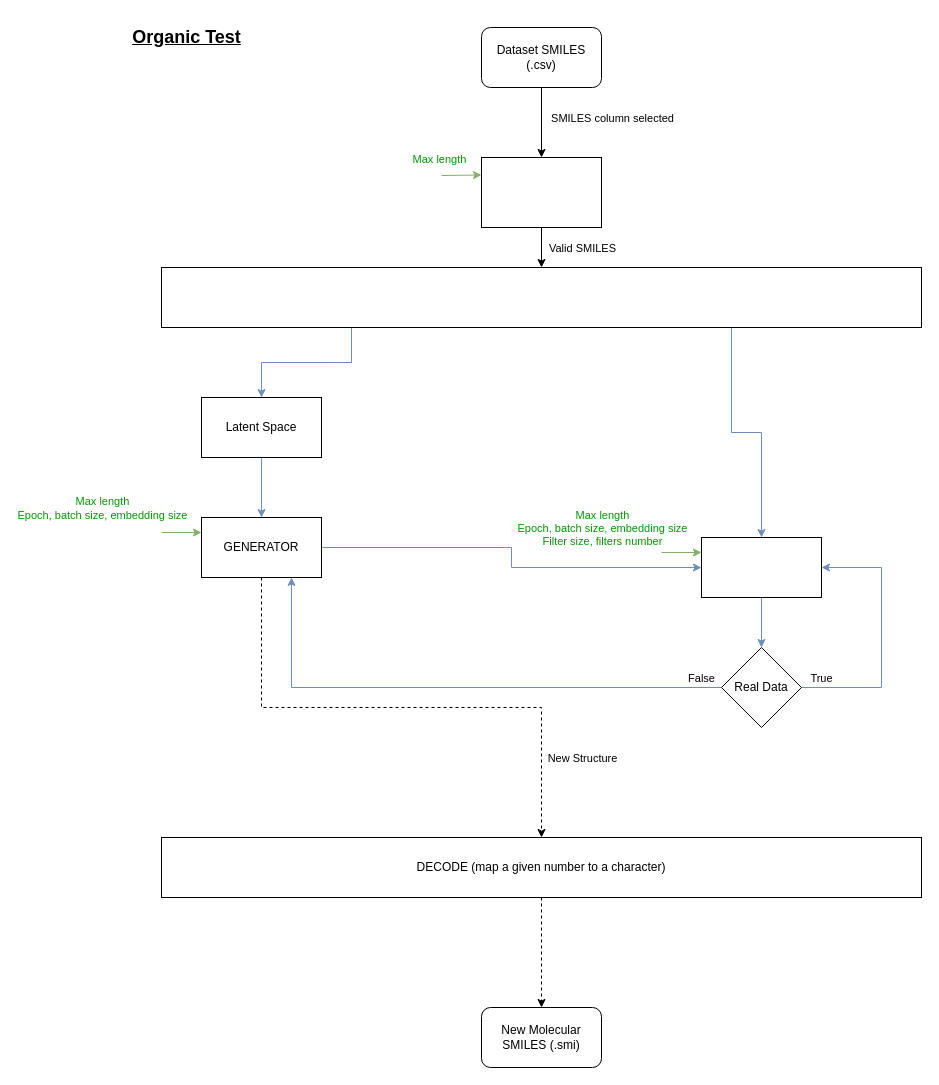
Image size: 939x1085. Some labels were removed from this diagram. Each missing label, with the centre of its shape:
"DISCRIMINATOR" goes at pixel 761 567.
"ENCODE (map a given character to a number)" goes at pixel 541 297.
"FILTER (SMILES checking format)" goes at pixel 541 192.
